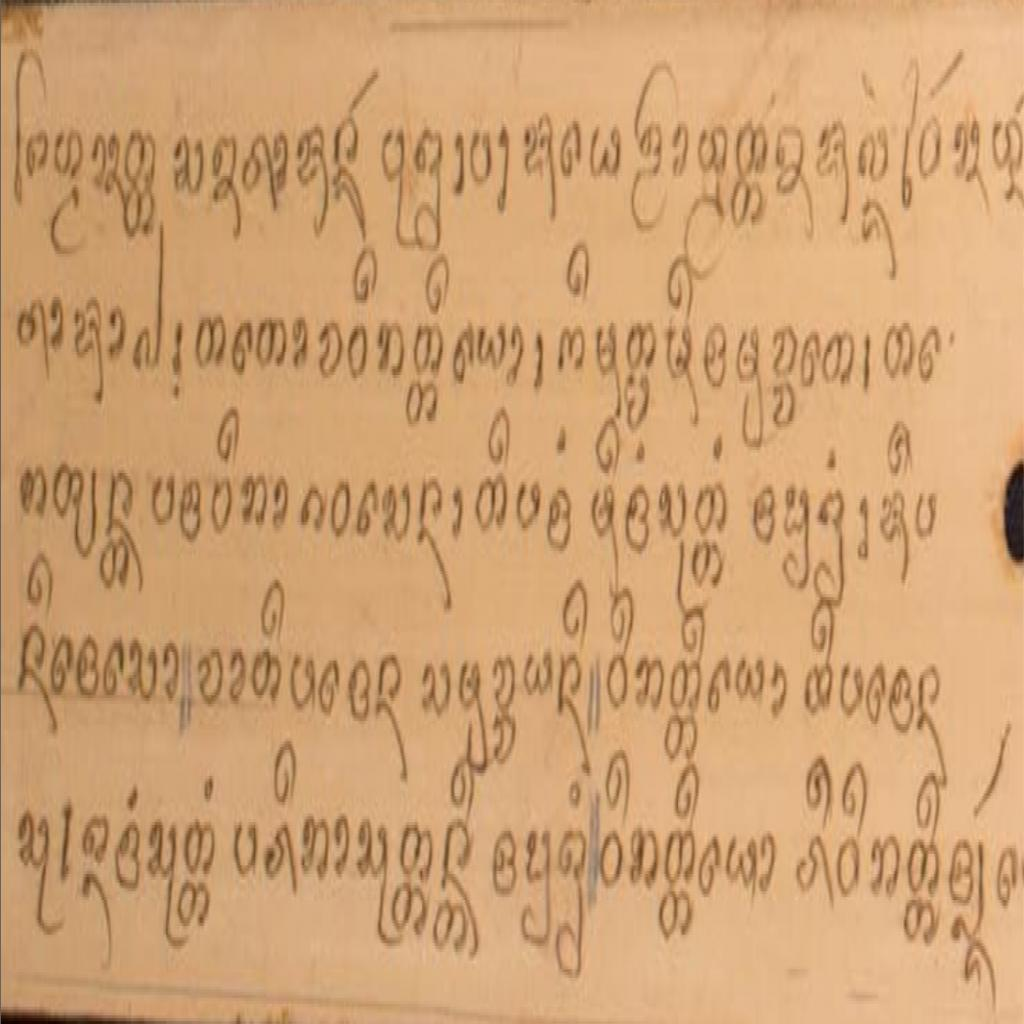LN002: (210, 125, 243, 252)
LN007: (172, 126, 207, 208)
